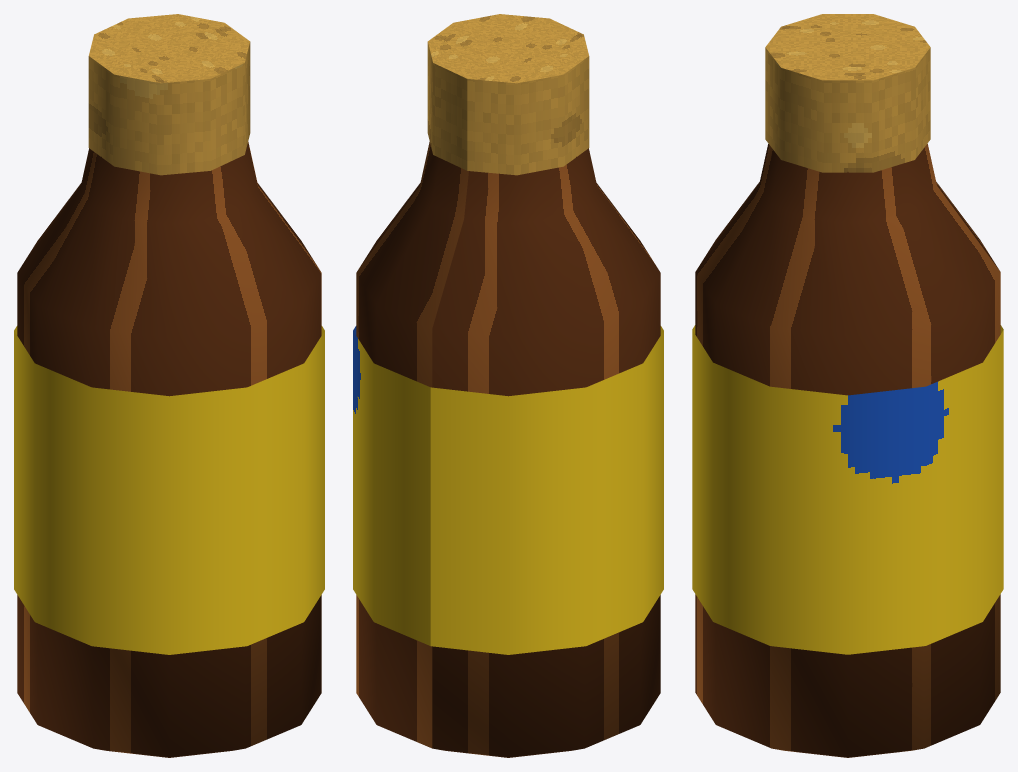
Rendered from item_energy.glb.
3 views of the same model, side by side, from view 1: azimuth 30°, elevation 25°; view 2: azimuth 150°, elevation 25°; view 3: azimuth 270°, elevation 25° (orthographic).
Parts seen in each view (by area): view 1: item_energy; view 2: item_energy; view 3: item_energy.
Part boxes in pixels (left/top/right/bottom): item_energy: left=14, top=14, right=324, bottom=757; item_energy: left=353, top=14, right=663, bottom=757; item_energy: left=692, top=14, right=1003, bottom=757.
Size of the model in its own units: 0.049 by 0.114 by 0.049.
3 materials, 3 textured.
